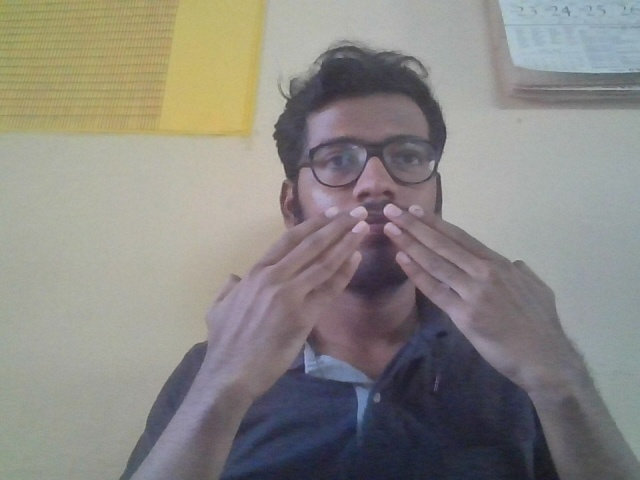ThankYou: (199, 202, 589, 390)
